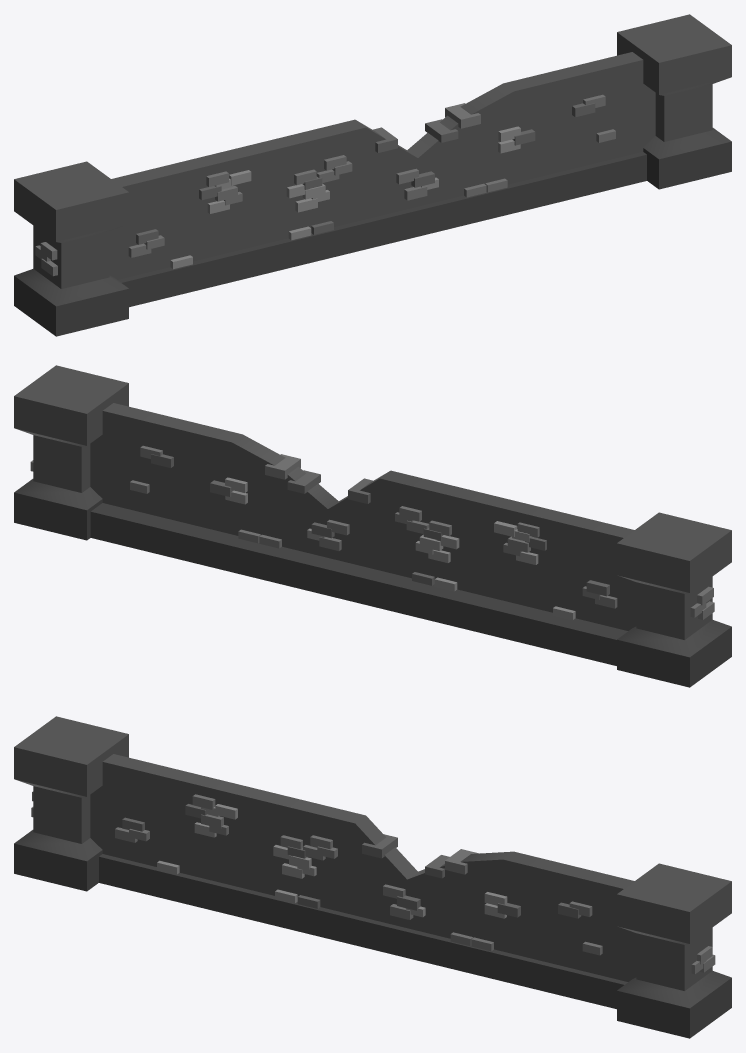
Rendered from Wall3.fbx.
3 views of the same model, one above another, from view 1: azimuth 30°, elevation 25°; view 2: azimuth 150°, elevation 25°; view 3: azimuth 330°, elevation 25° (orthographic).
Visible parts, largest first — view 1: Wall3; view 2: Wall3; view 3: Wall3.
Boxes of the visible parts, <box> form: Wall3: <box>14,14,731,336</box>; Wall3: <box>14,365,731,687</box>; Wall3: <box>14,716,731,1038</box>.
Bounding box in the file's own units: 35.88 × 6.42 × 3.88.
